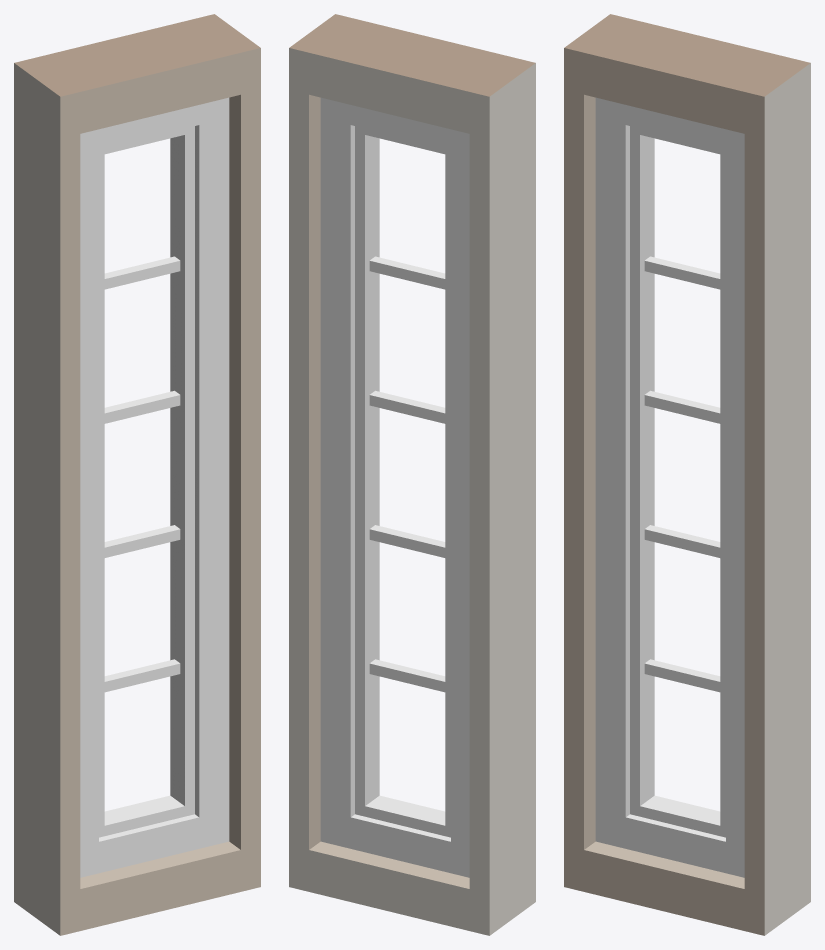
Rendered from Structure_Exterior_Doorway_Sidelight.glb.
3 views of the same model, side by side, from view 1: azimuth 30°, elevation 25°; view 2: azimuth 150°, elevation 25°; view 3: azimuth 330°, elevation 25° (orthographic).
Parts seen in each view (by area): view 1: Structure_Exterior_Doorway_Sidelight; view 2: Structure_Exterior_Doorway_Sidelight; view 3: Structure_Exterior_Doorway_Sidelight.
Boxes of the visible parts, left/top/right/bottom form: Structure_Exterior_Doorway_Sidelight: left=14, top=14, right=260, bottom=935; Structure_Exterior_Doorway_Sidelight: left=289, top=14, right=535, bottom=935; Structure_Exterior_Doorway_Sidelight: left=564, top=14, right=810, bottom=935.
Size of the model in its own units: 0.225 by 0.9 by 0.09.
